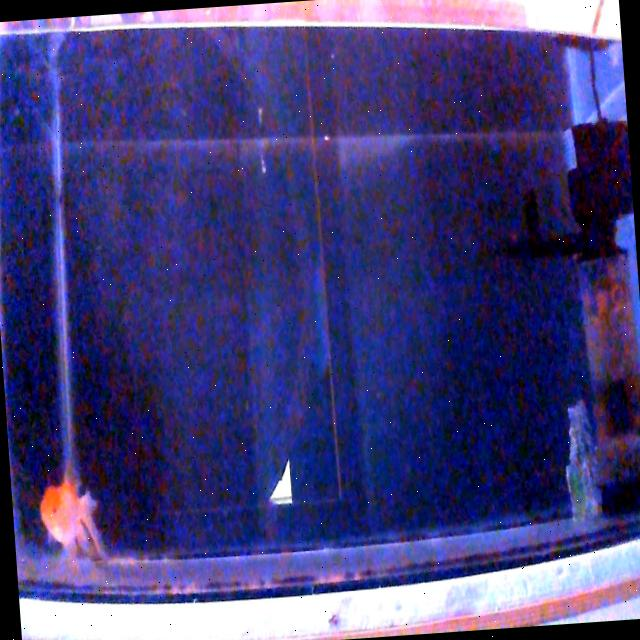fish: (38, 474, 106, 561)
